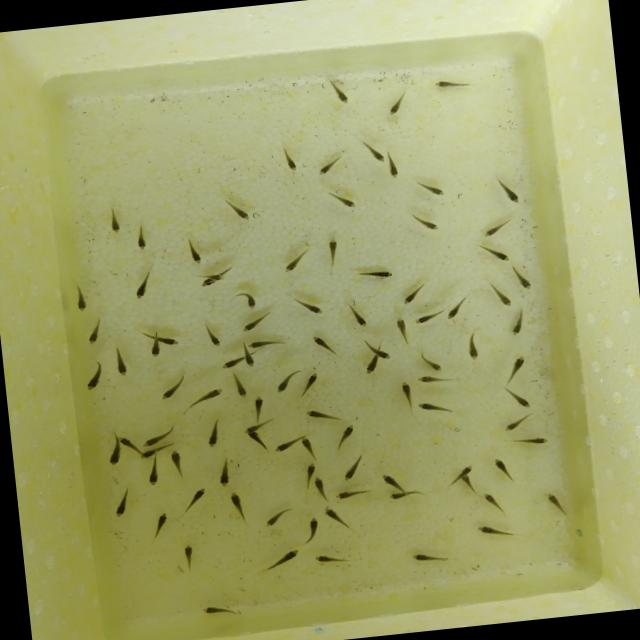fingerling: (337, 448, 375, 484), (260, 543, 305, 573), (184, 384, 228, 412), (176, 482, 212, 515), (405, 546, 456, 569), (380, 88, 416, 120), (491, 172, 523, 208), (472, 519, 521, 542), (218, 193, 253, 225), (301, 403, 348, 426), (176, 538, 206, 574), (279, 247, 316, 276), (318, 502, 351, 534), (290, 289, 326, 318), (108, 484, 137, 520), (476, 214, 516, 240), (476, 240, 514, 267), (498, 352, 530, 384), (81, 359, 112, 392), (500, 382, 534, 412), (156, 372, 191, 401), (128, 268, 156, 304), (236, 310, 278, 334), (416, 394, 458, 418), (344, 294, 370, 332), (144, 508, 173, 542), (322, 185, 358, 212), (295, 369, 326, 400), (270, 364, 302, 394), (396, 280, 432, 306), (138, 424, 177, 448), (227, 487, 251, 526), (314, 152, 348, 179), (201, 416, 228, 450), (462, 326, 486, 364), (499, 408, 534, 434), (442, 293, 472, 323), (406, 208, 440, 234), (354, 264, 398, 284), (322, 77, 352, 106), (542, 488, 571, 518), (508, 262, 536, 293), (331, 421, 359, 452), (490, 454, 518, 485), (412, 176, 448, 200), (197, 599, 240, 619), (390, 313, 416, 346), (312, 548, 354, 568), (507, 431, 551, 450), (278, 142, 304, 174), (82, 315, 108, 347), (429, 75, 474, 93), (310, 331, 340, 358), (479, 489, 506, 519), (259, 506, 292, 530), (320, 234, 343, 268), (165, 448, 188, 482), (489, 280, 515, 310), (297, 515, 322, 546), (328, 484, 376, 500), (214, 456, 238, 488), (415, 368, 457, 386), (230, 287, 260, 312), (506, 307, 530, 338), (103, 203, 125, 236), (248, 389, 270, 422), (181, 236, 205, 266), (396, 377, 416, 412), (377, 472, 408, 494), (384, 148, 404, 182), (71, 282, 92, 314), (411, 306, 444, 326), (360, 138, 385, 164), (365, 336, 392, 360), (244, 429, 271, 453), (111, 346, 131, 378), (230, 370, 251, 400), (418, 350, 444, 374), (272, 434, 302, 454), (133, 223, 152, 254), (246, 336, 291, 349), (142, 458, 161, 488), (299, 434, 319, 462), (310, 474, 330, 502), (388, 489, 426, 503), (202, 323, 222, 349), (104, 442, 123, 469), (240, 342, 256, 370), (302, 459, 324, 478), (218, 355, 242, 372), (362, 356, 382, 376), (117, 433, 138, 452), (158, 332, 179, 348), (461, 472, 476, 494), (146, 339, 162, 357), (242, 421, 264, 434), (137, 446, 156, 460), (458, 462, 477, 474), (203, 272, 225, 282)
